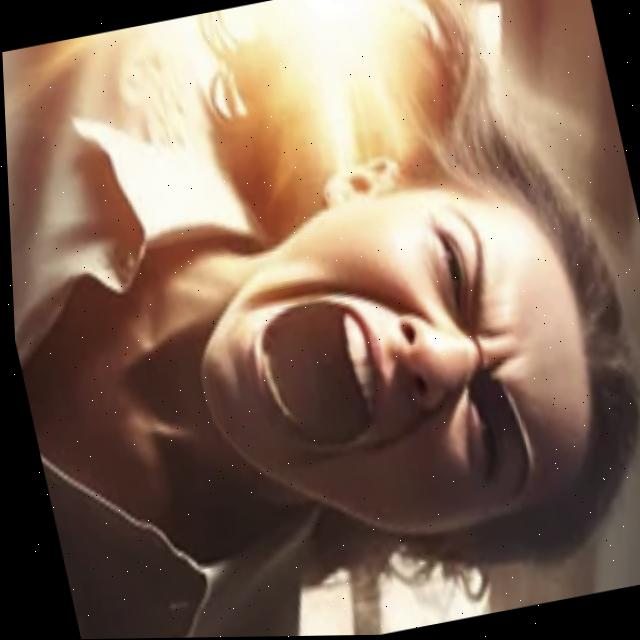angry: (167, 89, 640, 573)
